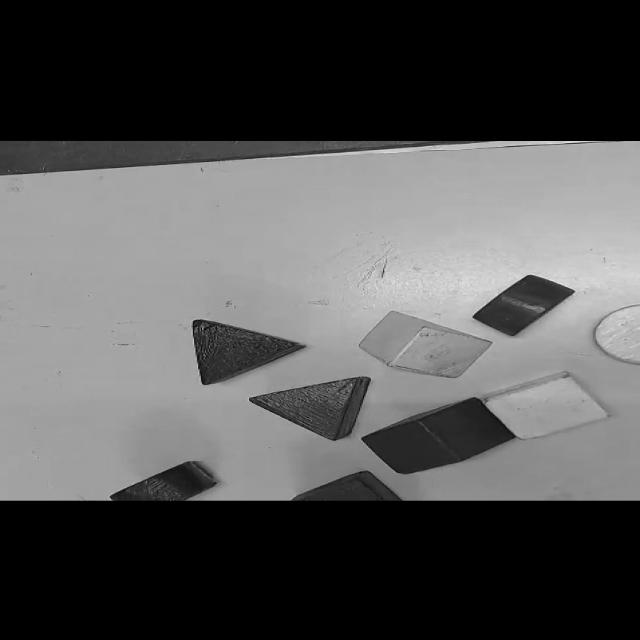bcircle: (110, 461, 216, 501)
btriangle: (192, 320, 305, 385)
rcircle: (473, 275, 574, 335)
rcube: (362, 398, 515, 474)
rtriangle: (250, 377, 370, 440)
ycube: (483, 372, 610, 439)
ytriangle: (359, 311, 492, 377)
